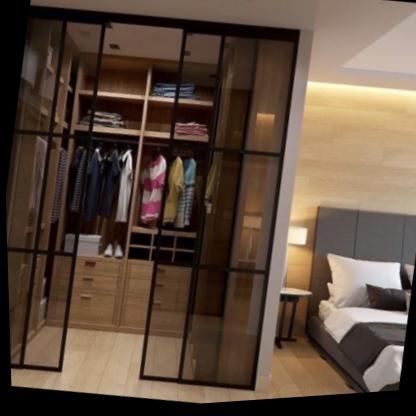Bed: (304, 211, 416, 398)
Gypsum Board: (301, 0, 416, 108)
Transparent Closet: (0, 0, 308, 405)
Wooden floor: (200, 342, 351, 406)
